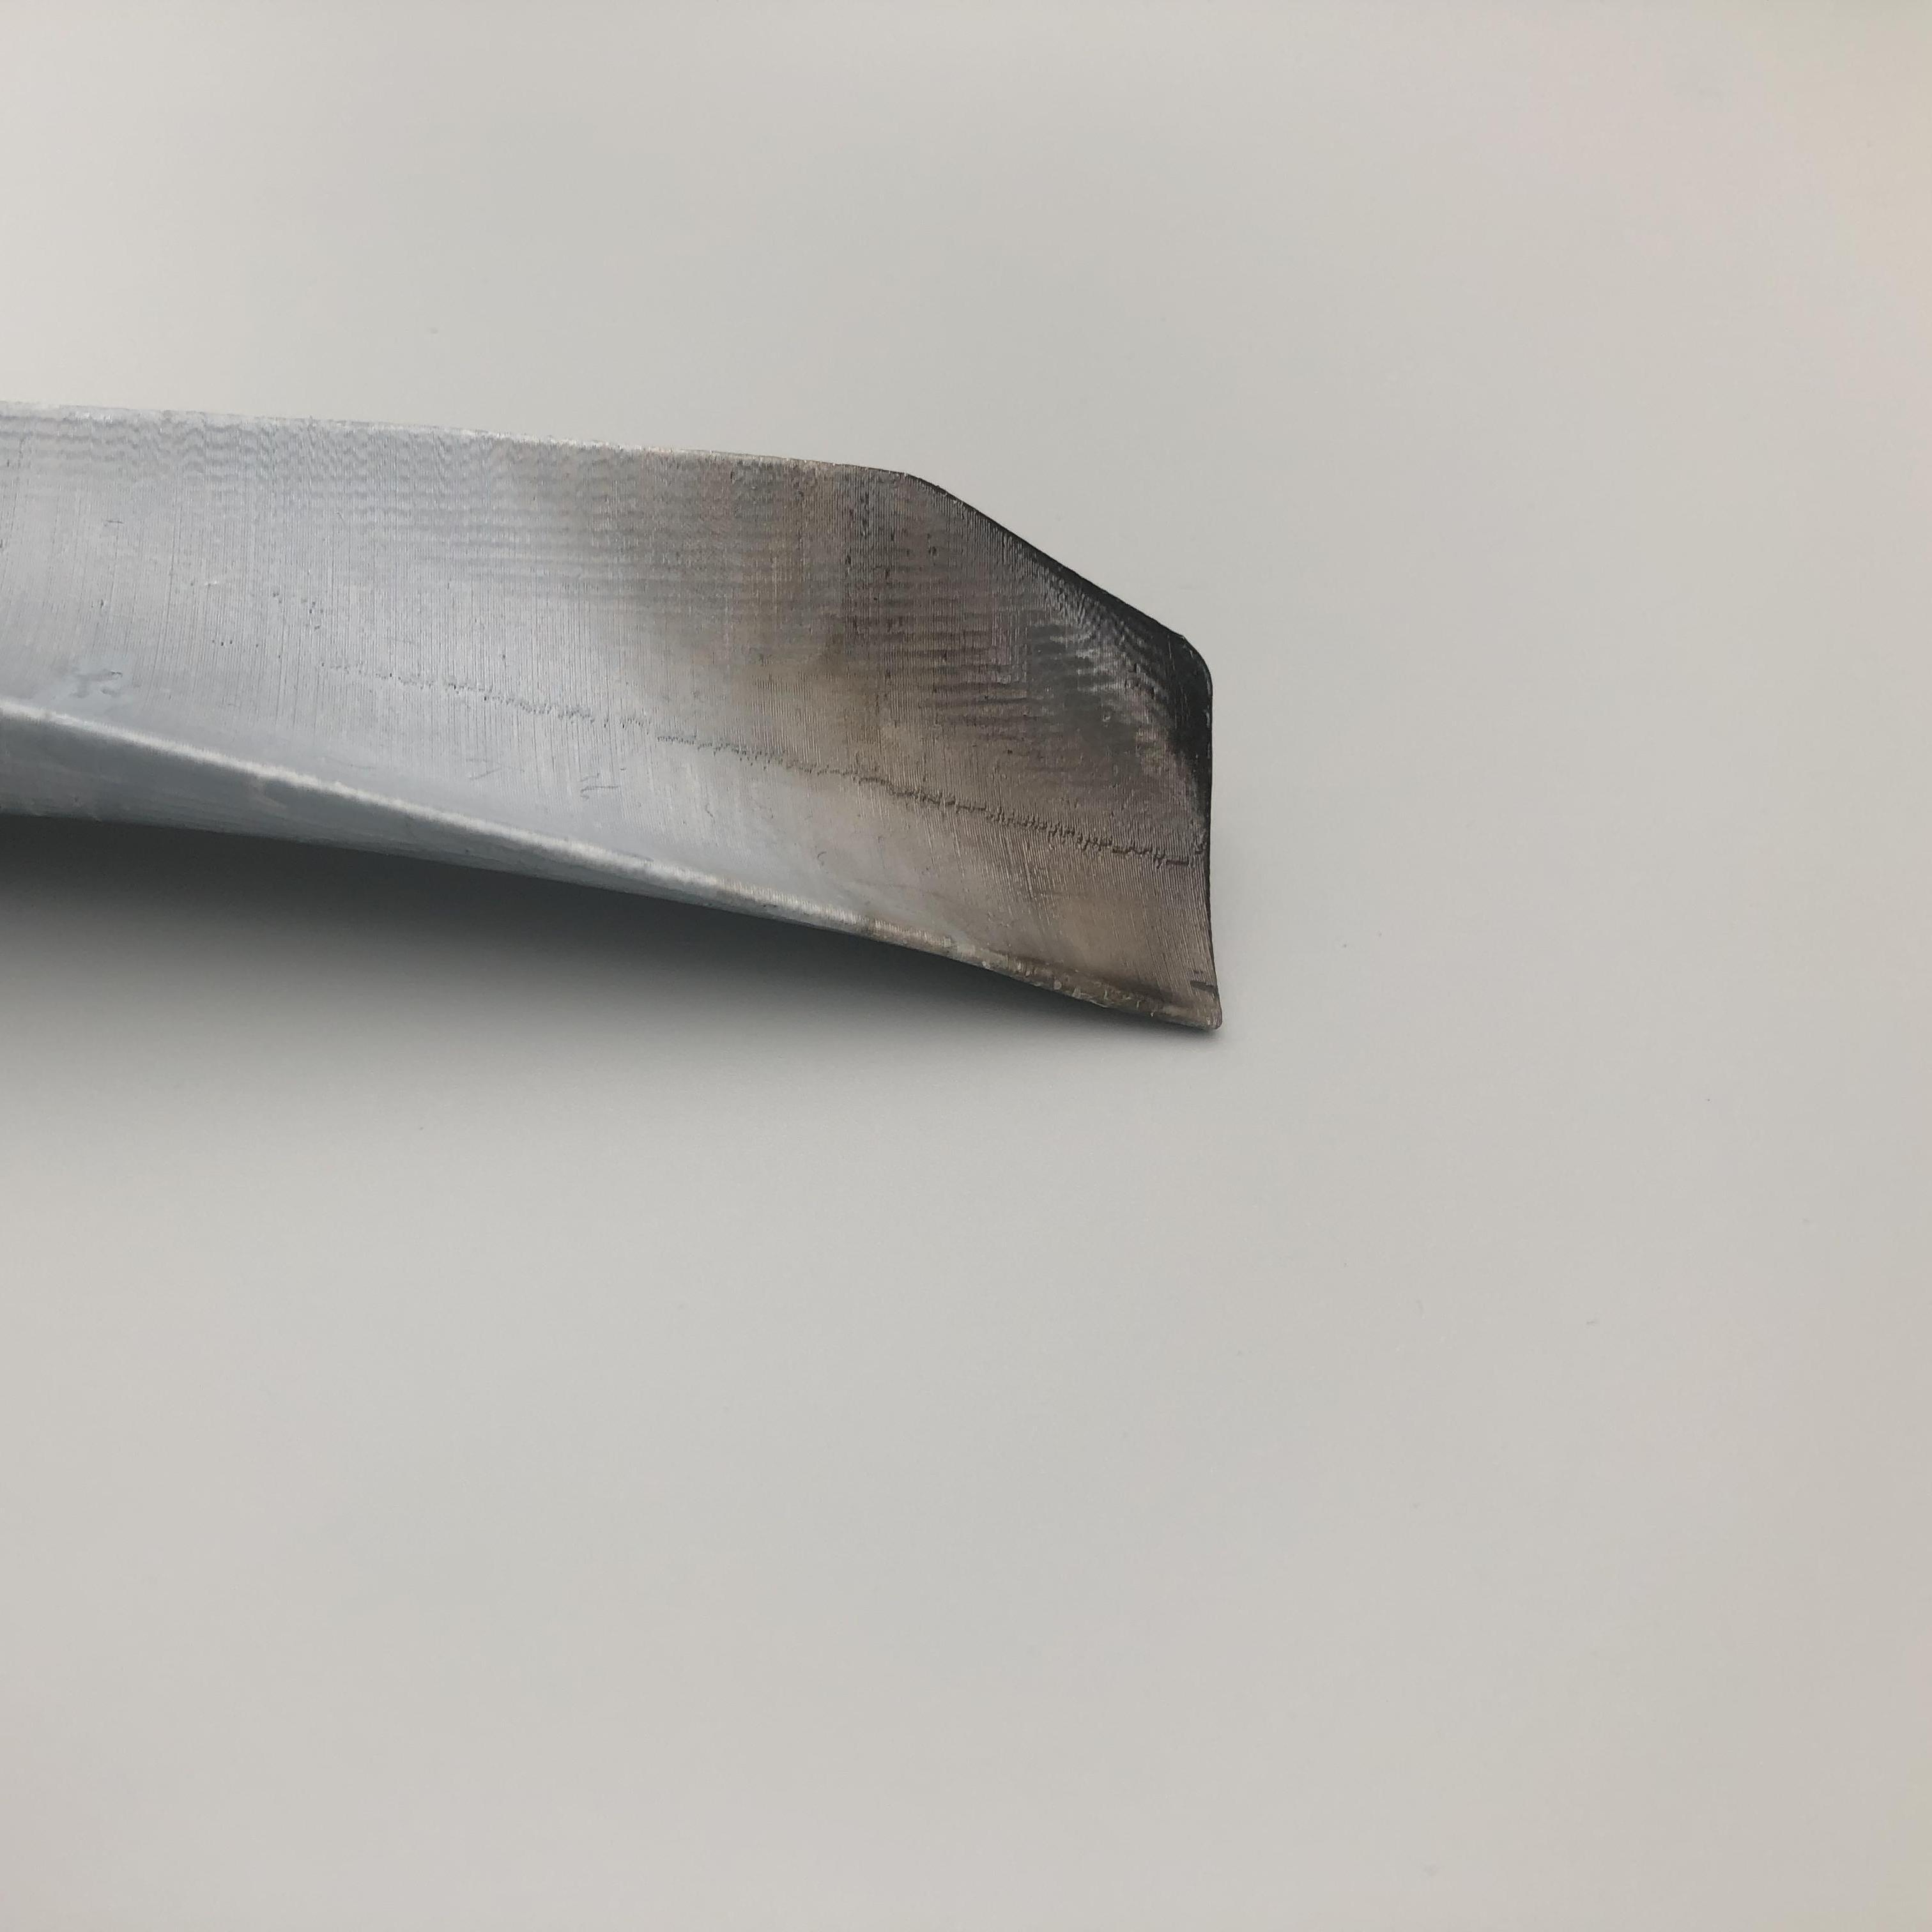ablation: (826, 499, 1235, 1019)
